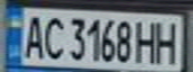1: (84, 16, 103, 62)
3: (63, 14, 87, 61)
6: (100, 16, 118, 63)
8: (115, 17, 136, 63)
A: (18, 11, 48, 60)
C: (39, 12, 66, 61)
H: (151, 17, 184, 65), (133, 17, 160, 64)
